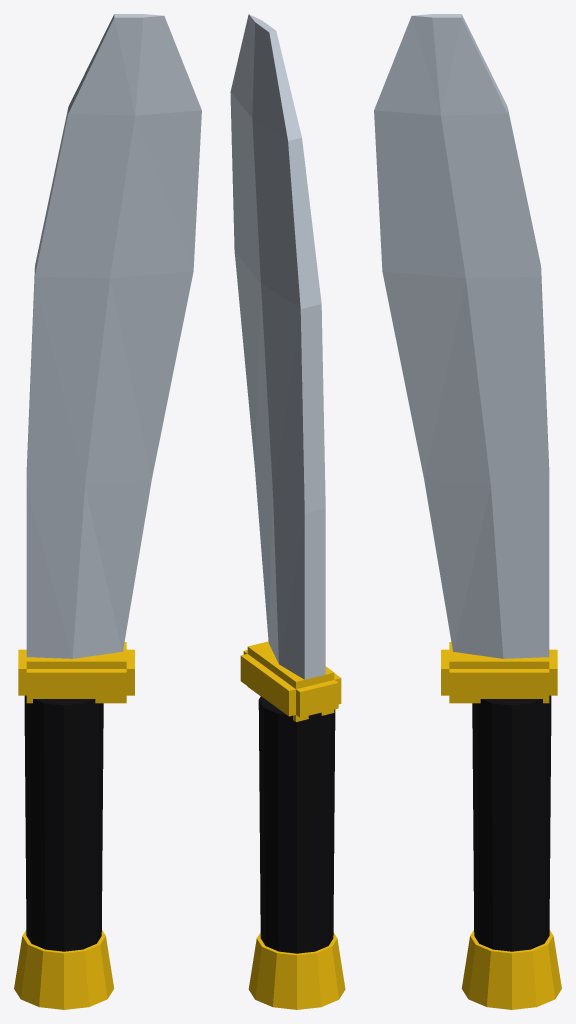
The model's file is Weapon_Machete.obj.
3 views of the same model, side by side, from view 1: azimuth 90°, elevation 25°; view 2: azimuth 210°, elevation 25°; view 3: azimuth 270°, elevation 25° (orthographic). The views are drawn at different scales.
Parts seen in each view (by area): view 1: default; view 2: default; view 3: default.
Boxes of the visible parts, <box> form: default: <box>14,14,201,1009</box>; default: <box>230,14,345,1009</box>; default: <box>374,14,561,1009</box>.
Size of the model in its own units: 0.048 by 0.514 by 0.09.
